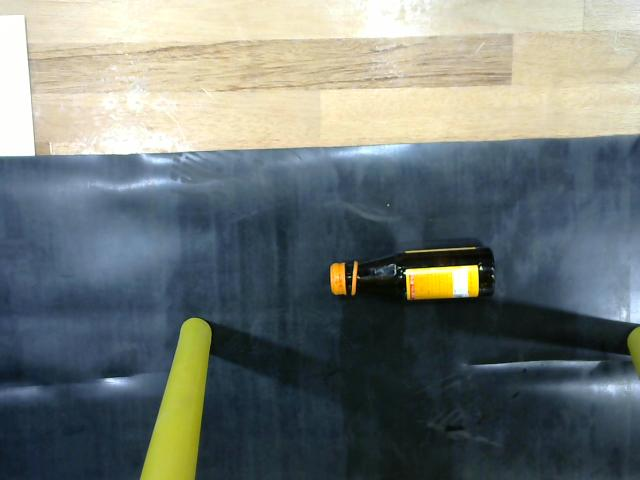glass: (319, 231, 505, 313)
